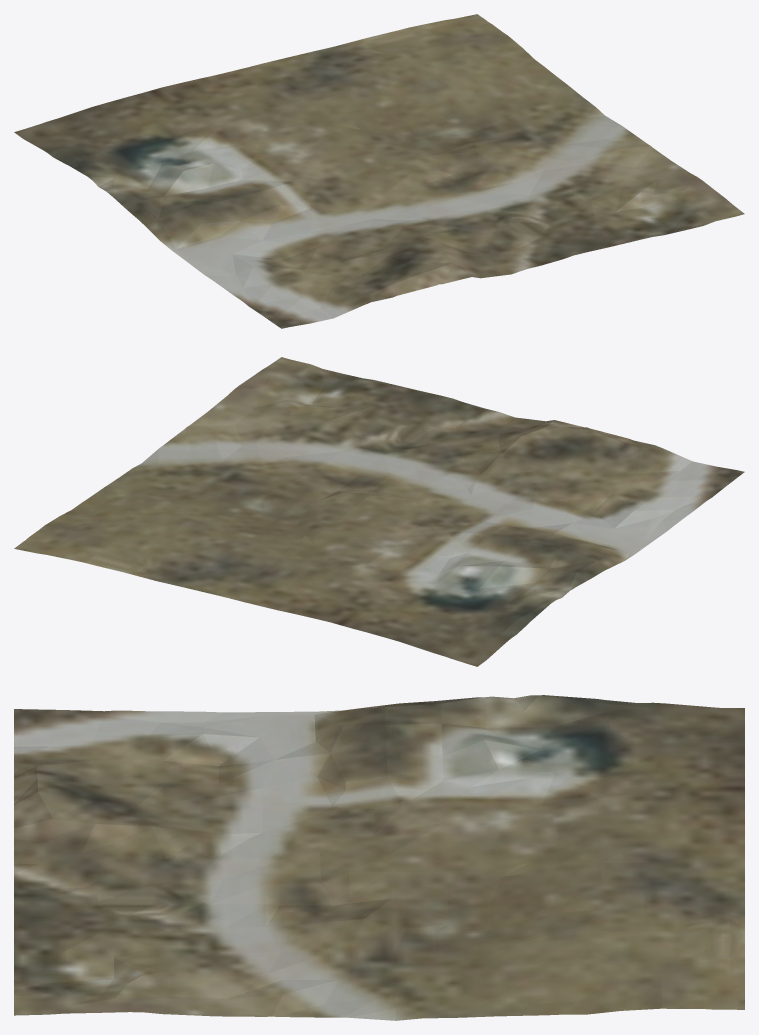
3 renders of one model, top to bottom at view 1: azimuth 30°, elevation 25°; view 2: azimuth 150°, elevation 25°; view 3: azimuth 270°, elevation 25°, orthographic. The views are drawn at different scales.
Bounding box in the file's own units: 52.22 × 1.93 × 52.22.
2 materials, 2 textured.
